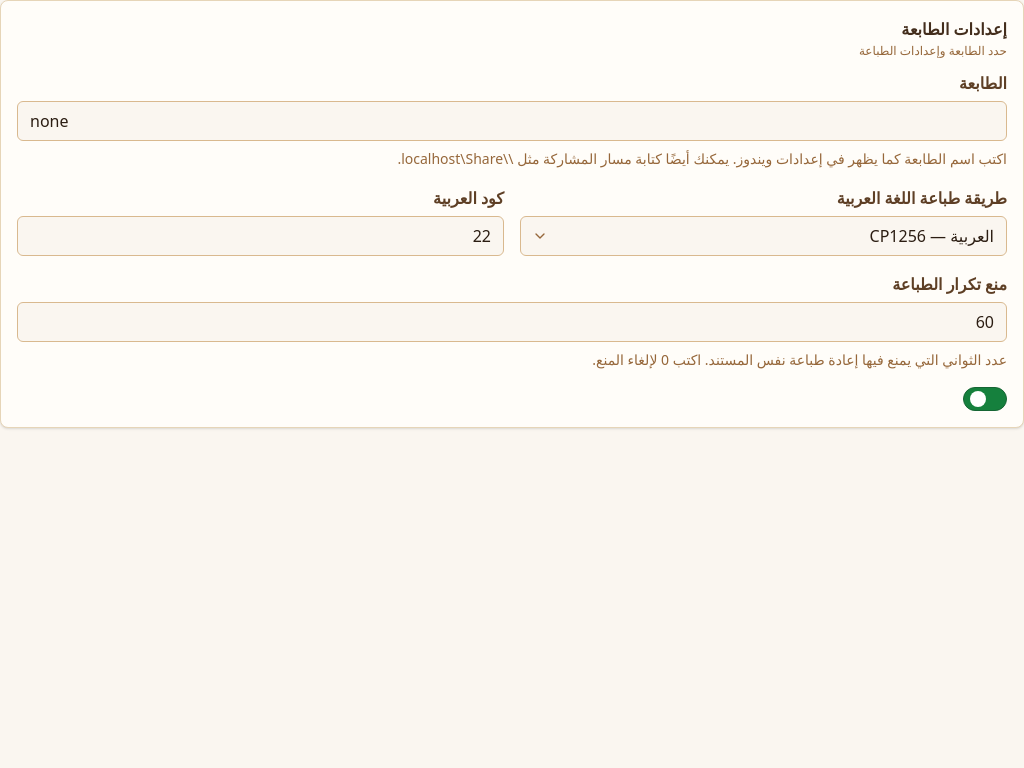
Test: PrinterSettings › confirms a saved setting
Replace the text in the field labelled "الطابعة" with "XP80" at (512,121), box [17,101,1007,141]
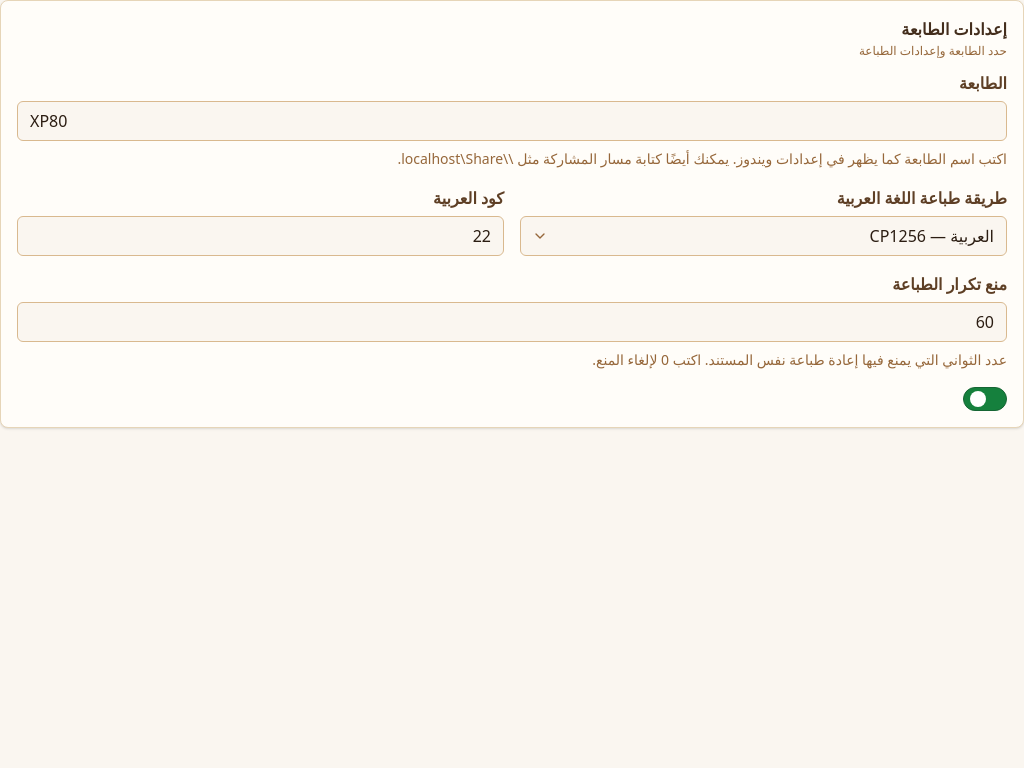
Leave the field labelled "الطابعة", box [17,101,1007,141]
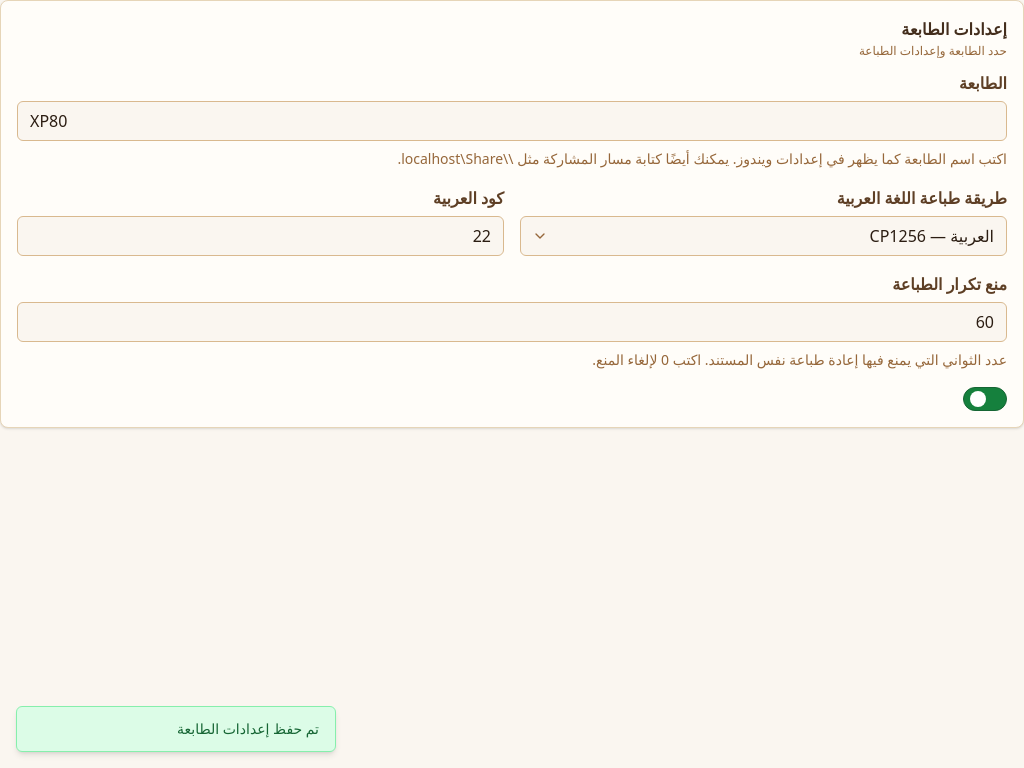
Now the text "تم حفظ إعدادات الطابعة" is shown, box [16,706,336,752]
